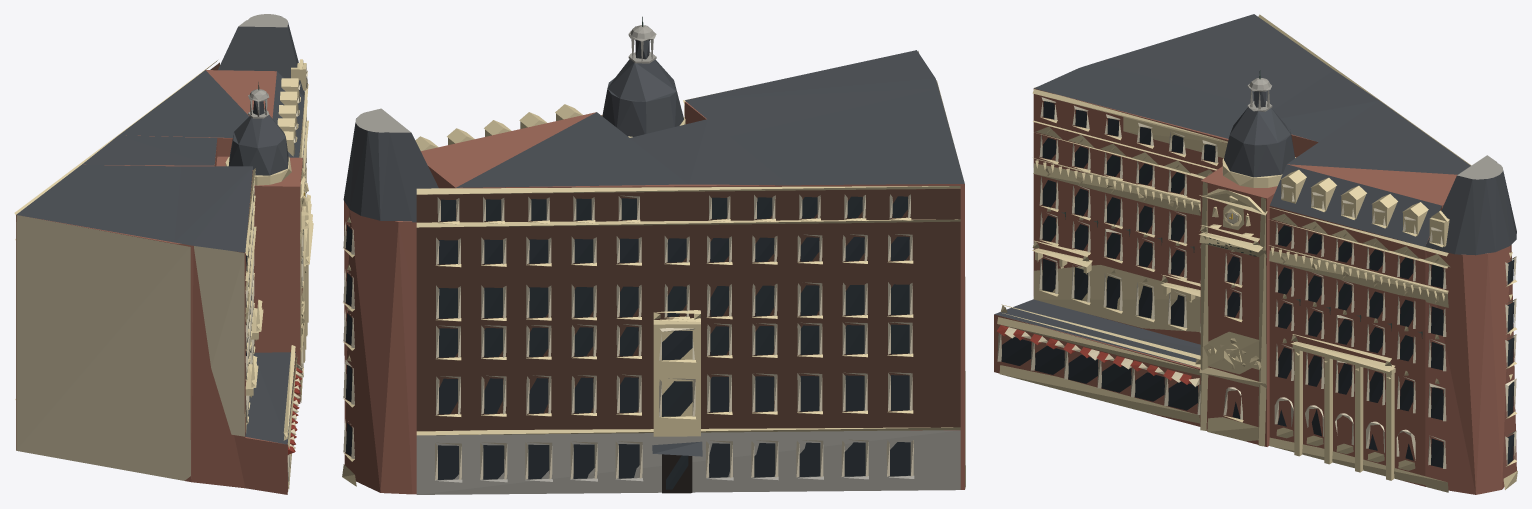
File: doelen-hotel.lod1.glb
3 views of the same model, side by side, from view 1: azimuth 30°, elevation 25°; view 2: azimuth 150°, elevation 25°; view 3: azimuth 270°, elevation 25° (orthographic). The views are drawn at different scales.
Parts seen in each view (by area): view 1: doelen-hotel; view 2: doelen-hotel; view 3: doelen-hotel.
Part boxes in pixels (left/top/right/bottom): doelen-hotel: left=14, top=14, right=313, bottom=494; doelen-hotel: left=342, top=16, right=965, bottom=494; doelen-hotel: left=994, top=14, right=1517, bottom=494.
Bounding box in the file's own units: 40.84 × 31.8 × 42.78.
